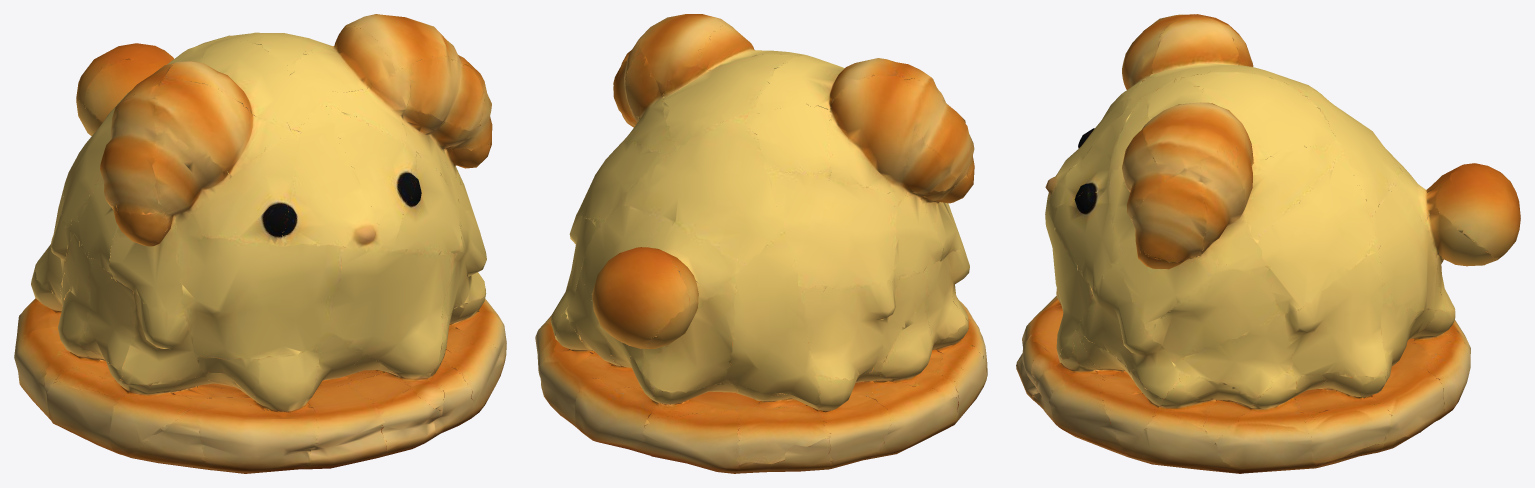
Rendered from creature-croissant-ram.glb.
3 renders of one model, left to right at view 1: azimuth 30°, elevation 25°; view 2: azimuth 150°, elevation 25°; view 3: azimuth 270°, elevation 25°, orthographic. The views are drawn at different scales.
Parts seen in each view (by area): view 1: Mesh_0; view 2: Mesh_0; view 3: Mesh_0.
Boxes of the visible parts, x1=… form: Mesh_0: x1=14, y1=14, x2=506, y2=473; Mesh_0: x1=535, y1=14, x2=987, y2=473; Mesh_0: x1=1016, y1=14, x2=1520, y2=473.
Size of the model in its own units: 1.56 by 1.25 by 1.75.
1 material, 1 textured.
